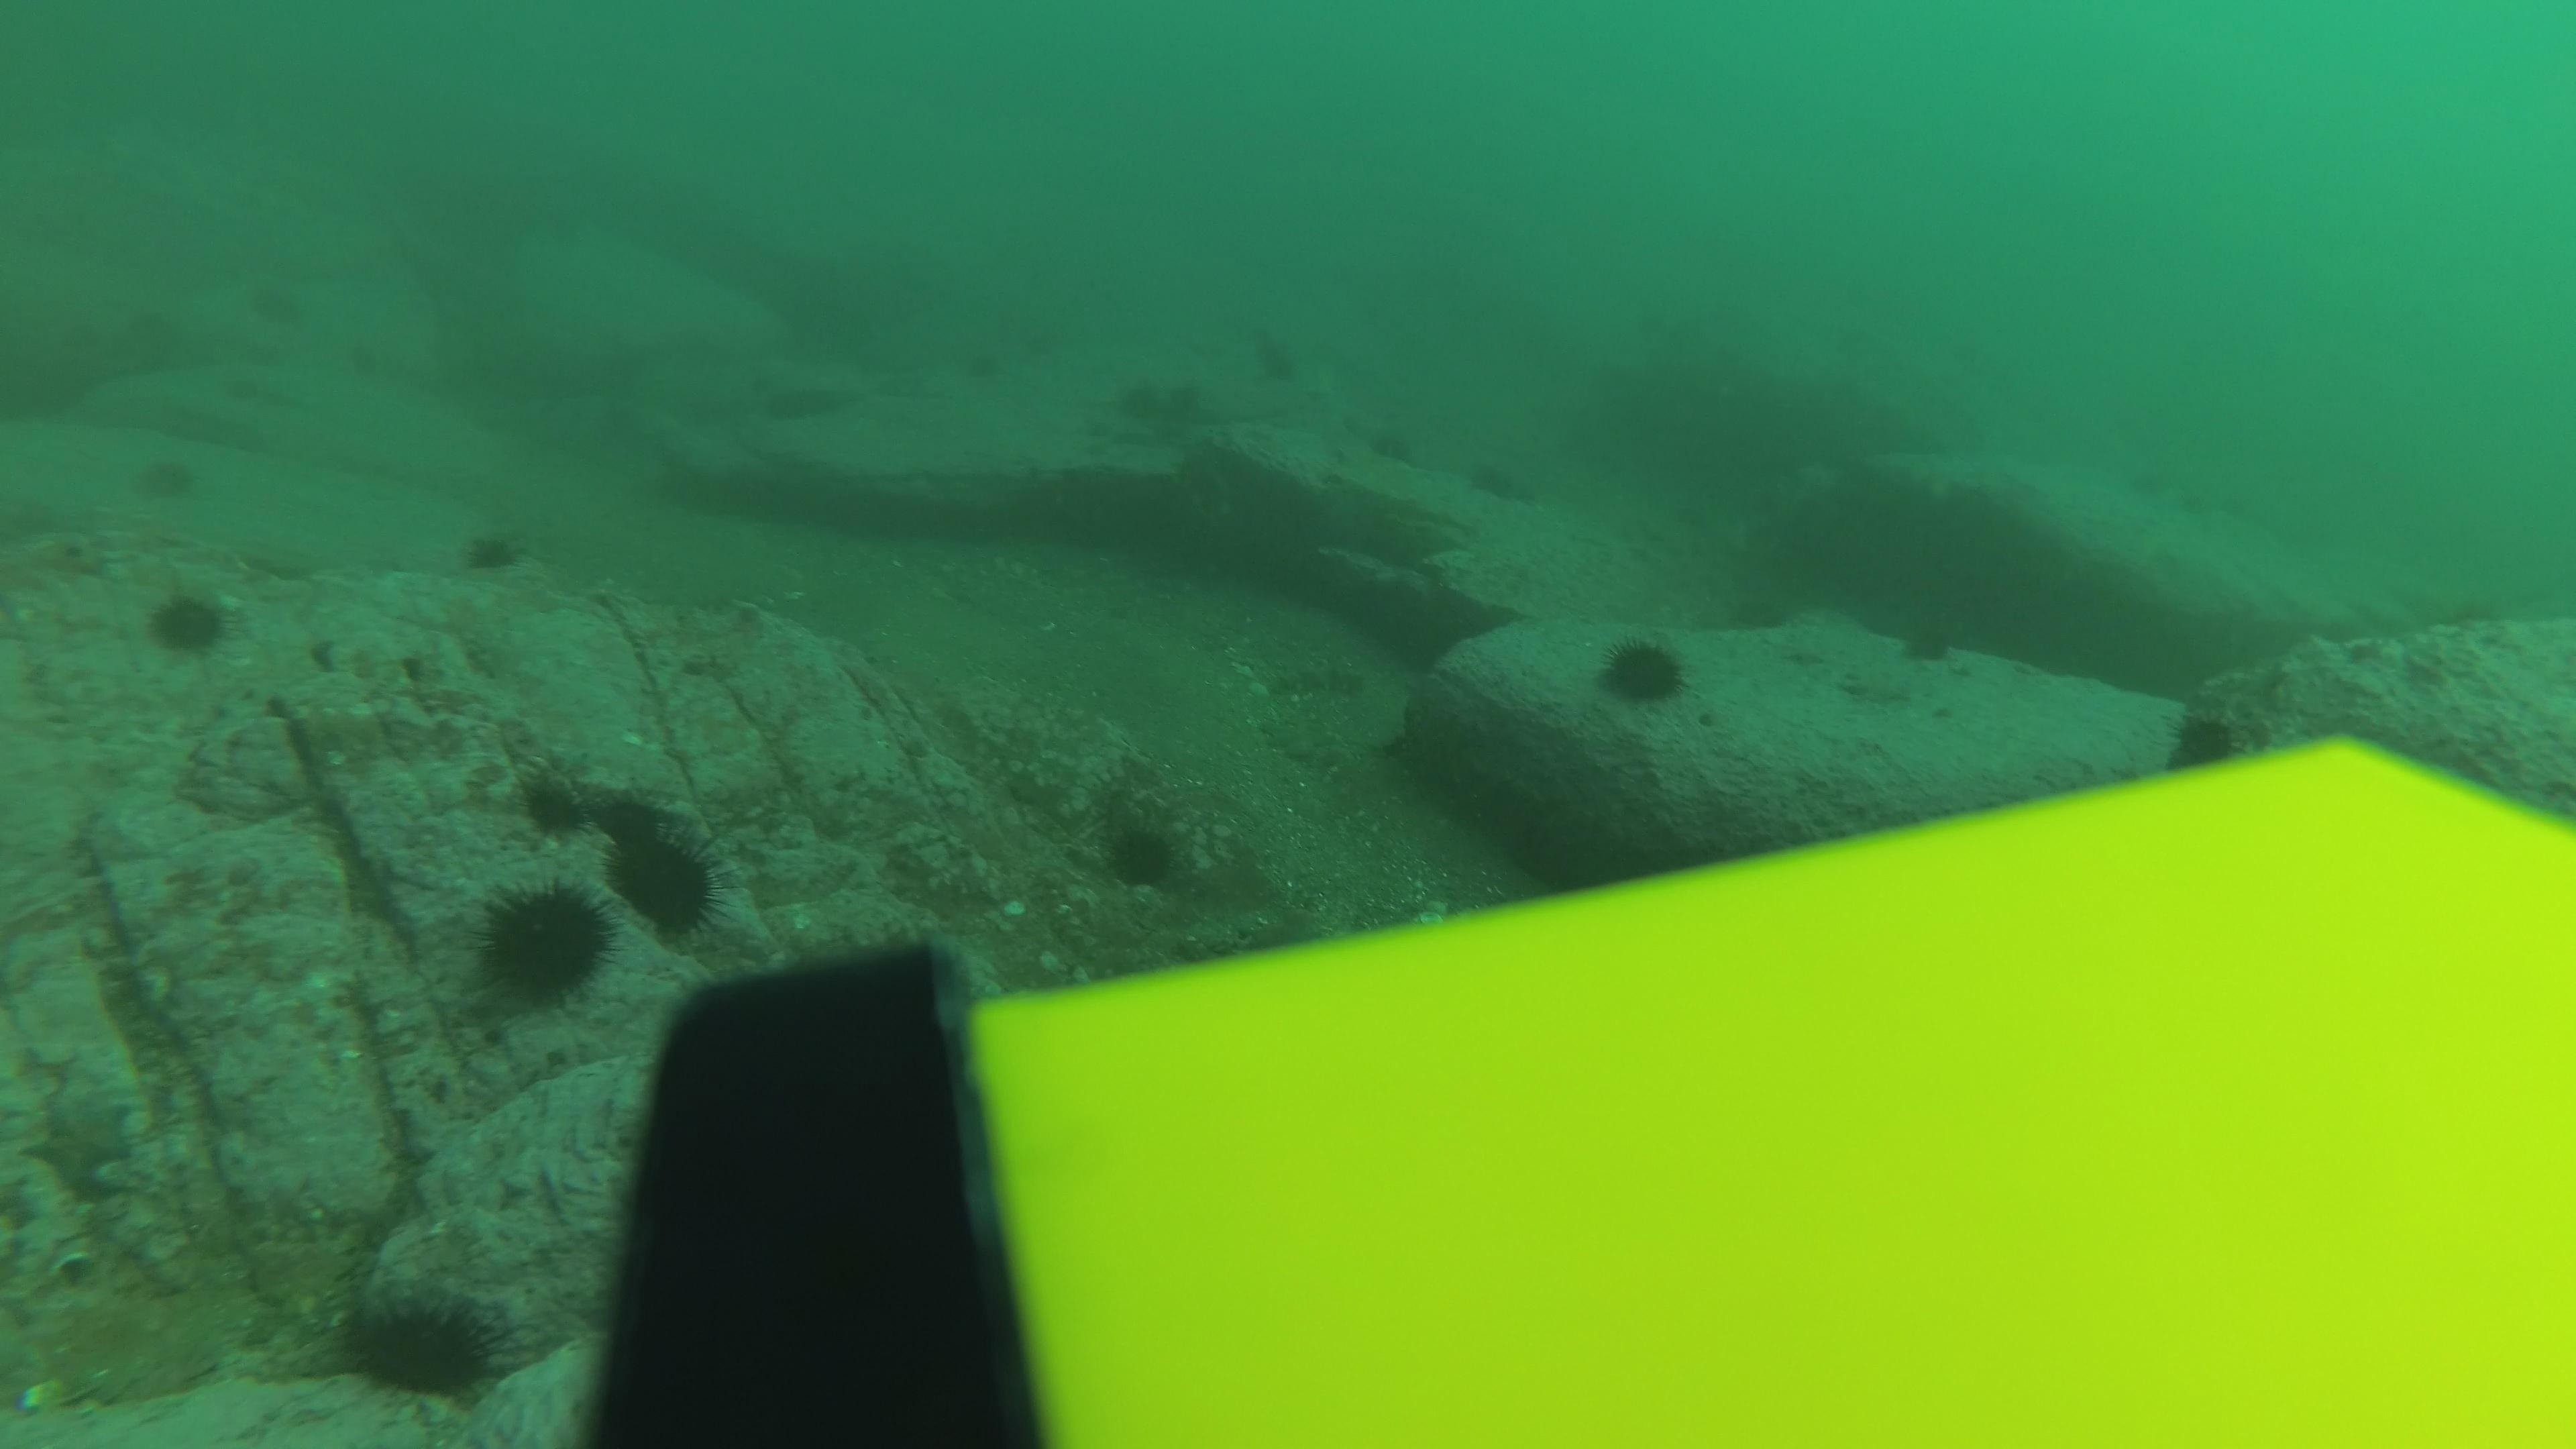echinus: (334, 1288, 506, 1405), (471, 876, 617, 1008), (598, 814, 725, 938), (1594, 630, 1693, 711), (2158, 701, 2263, 777), (1097, 810, 1189, 893), (143, 582, 237, 660), (511, 764, 593, 840), (131, 448, 203, 506), (1893, 614, 1964, 669), (458, 522, 525, 577)
